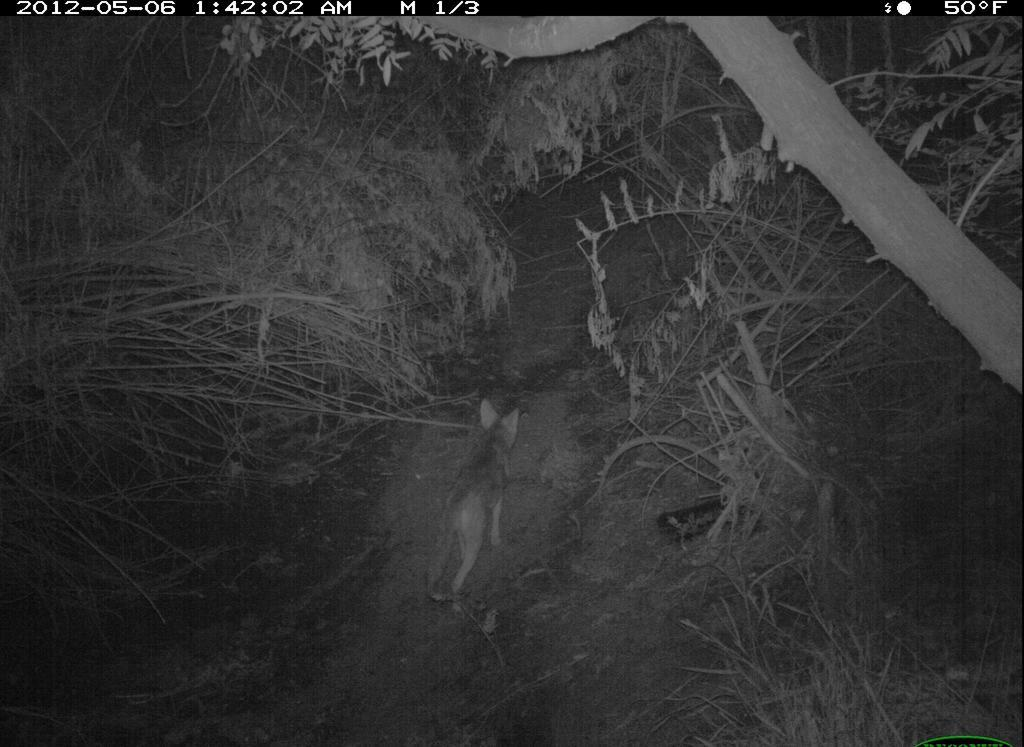coyote: (423, 397, 532, 601)
